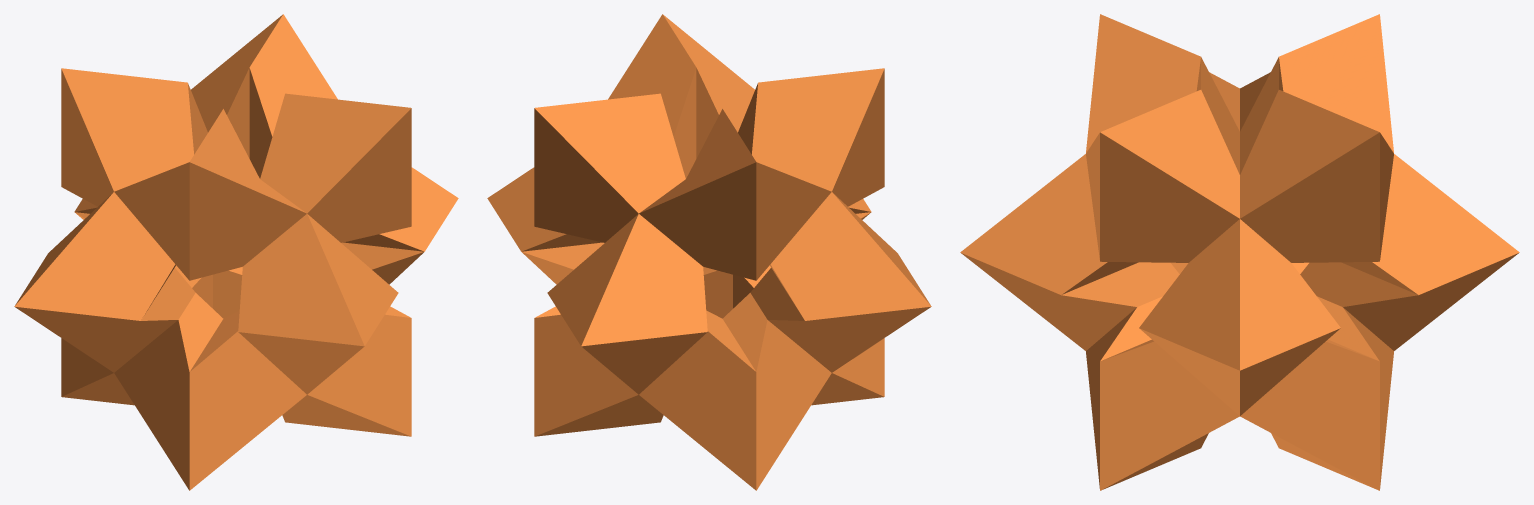
File: Demon King Crystal Particle.fbx
3 renders of one model, left to right at view 1: azimuth 30°, elevation 25°; view 2: azimuth 150°, elevation 25°; view 3: azimuth 270°, elevation 25°, orthographic. The views are drawn at different scales.
Parts seen in each view (by area): view 1: Demon King Crystal Particle; view 2: Demon King Crystal Particle; view 3: Demon King Crystal Particle.
Part boxes in pixels (box(x1,y1,x2,y2)): Demon King Crystal Particle: box(14, 14, 458, 490); Demon King Crystal Particle: box(487, 14, 931, 490); Demon King Crystal Particle: box(960, 14, 1519, 490).
Bounding box in the file's own units: 55.32 × 39.12 × 55.32.
